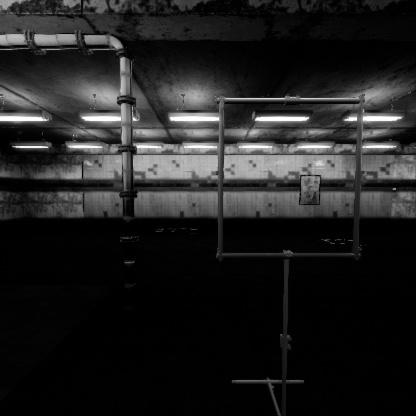gate: (218, 156, 376, 318)
